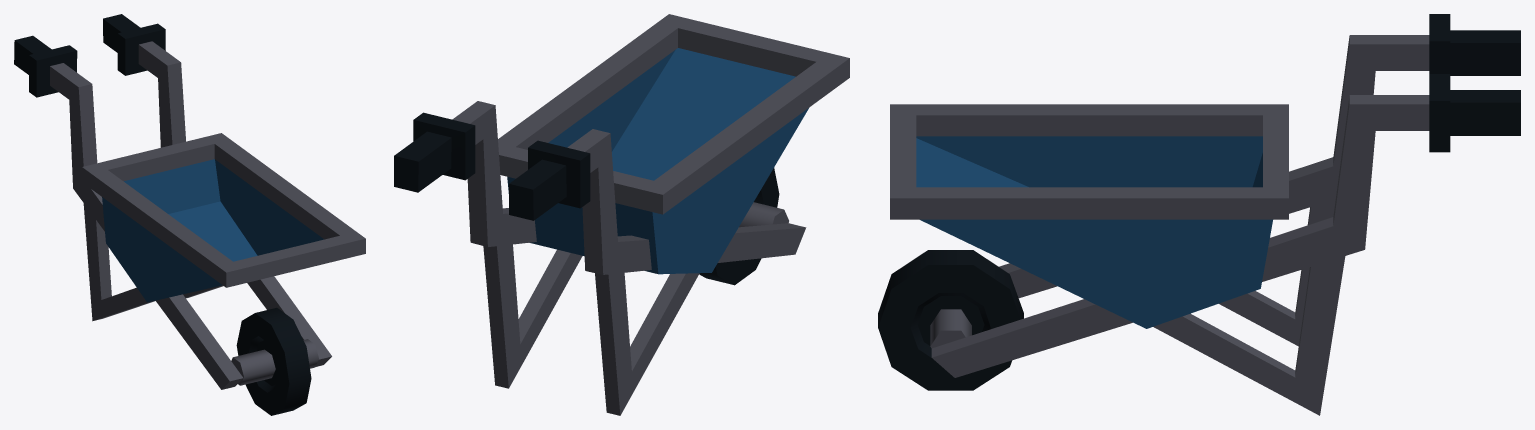
The model's file is Barrow_2.fbx.
3 renders of one model, left to right at view 1: azimuth 30°, elevation 25°; view 2: azimuth 150°, elevation 25°; view 3: azimuth 270°, elevation 25°, orthographic. The views are drawn at different scales.
Parts seen in each view (by area): view 1: Barrow_2; view 2: Barrow_2; view 3: Barrow_2.
Boxes of the visible parts, x1=… form: Barrow_2: x1=14, y1=14, x2=365, y2=415; Barrow_2: x1=394, y1=14, x2=849, y2=415; Barrow_2: x1=878, y1=14, x2=1520, y2=415.
Bounding box in the file's own units: 30.29 × 48.89 × 87.43.
